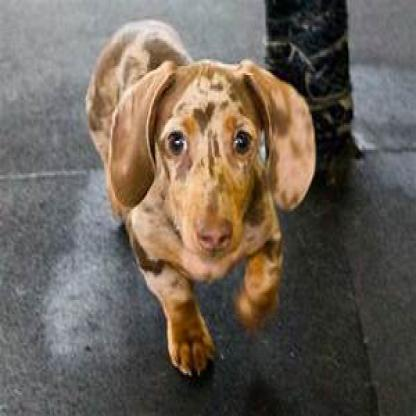dog: (85, 18, 316, 380)
